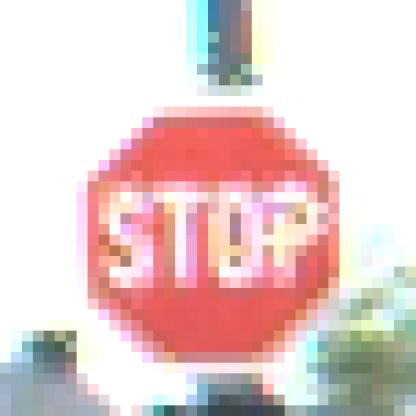Stop: (77, 101, 345, 370)
